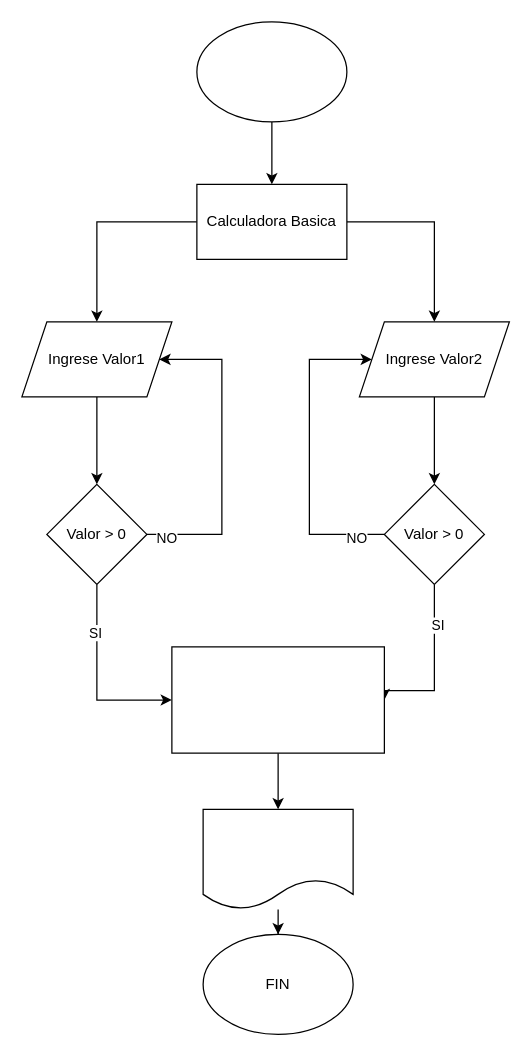
The diagram is 531 pixels wide and 1056 high, and some of its shapes have lost their labels. Here are the shapes that lost their labels. From the top down, the centre of each, then its label:
(x=271, y=71): Inicio
(x=277, y=699): Seleccionar Operacion Suma - Resta - Multiplicacion - Division - Modulo
(x=277, y=858): Resultado Operacion
